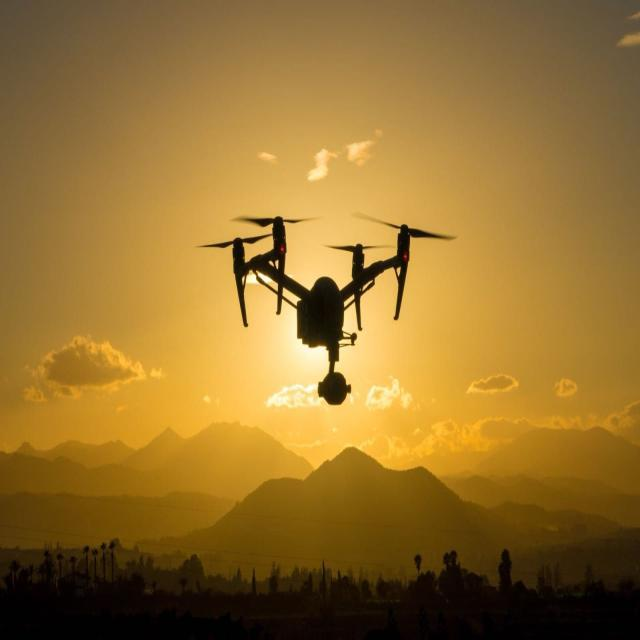drones: (195, 201, 465, 422)
